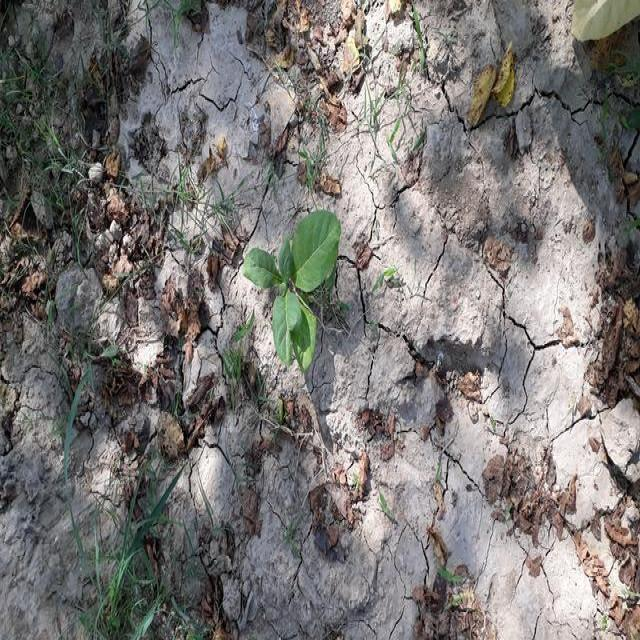crop: (240, 203, 354, 378)
